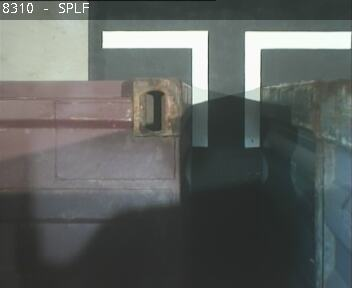groundmarker_1: (102, 29, 351, 149)
